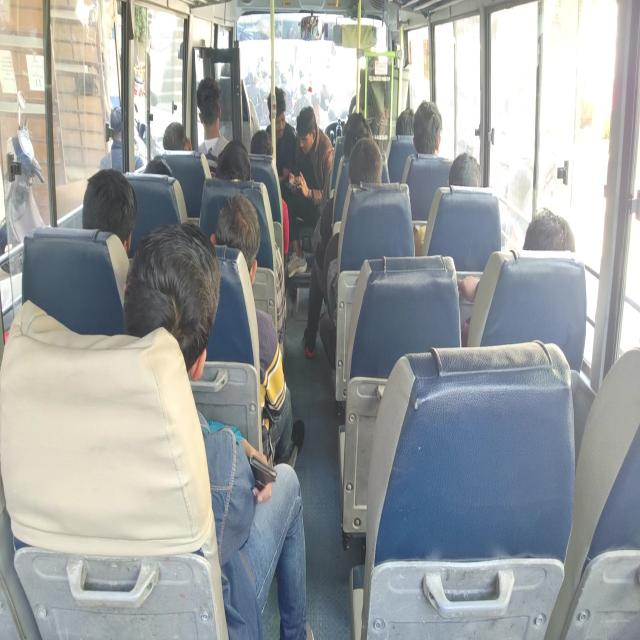person: (122, 221, 313, 639), (210, 193, 304, 463), (303, 138, 383, 368), (457, 206, 575, 346), (282, 105, 334, 276), (82, 167, 137, 256), (265, 86, 298, 182), (196, 76, 229, 160), (523, 207, 575, 252), (412, 100, 442, 155), (215, 138, 251, 180), (100, 106, 122, 171), (448, 152, 482, 187), (162, 121, 192, 151), (143, 156, 173, 176), (395, 108, 415, 135)
